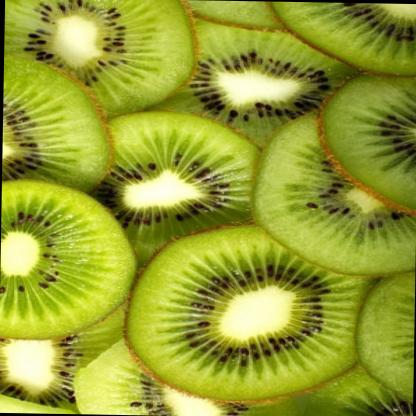kiwi: (119, 216, 371, 410), (75, 100, 261, 264), (0, 173, 137, 349), (1, 0, 194, 121), (0, 46, 117, 202)
